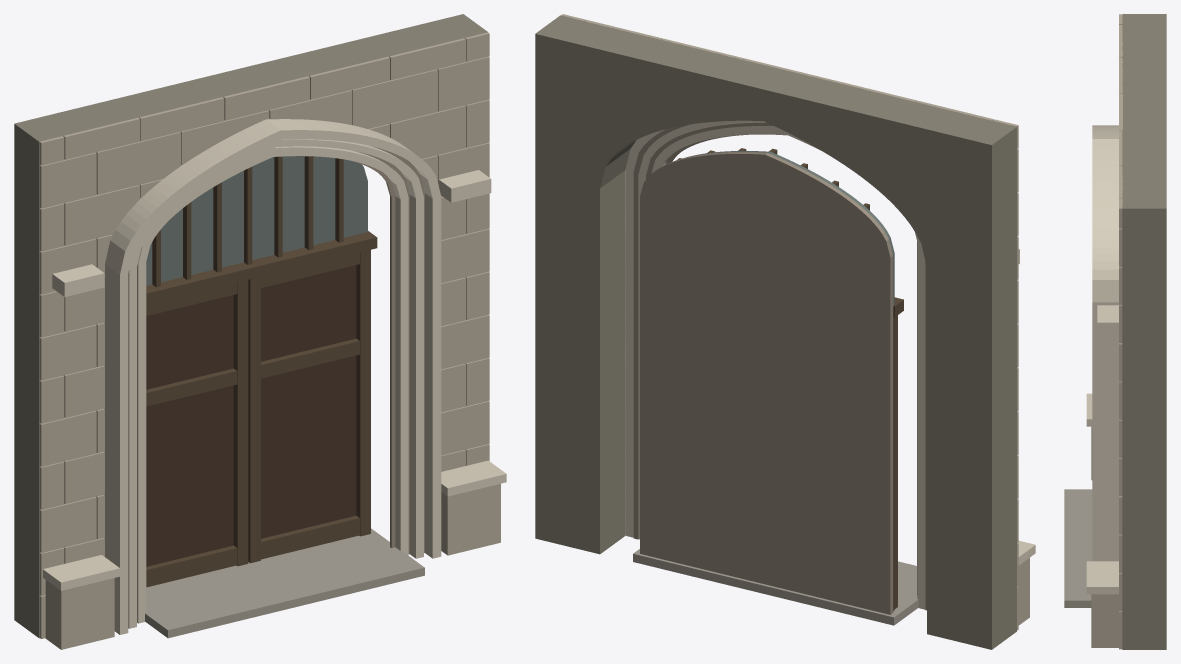
Rendered from yangpu-hujiang-haskell-gymnasium-arched-portal-web.glb.
The picture shows the model from 3 angles, left to right: view 1: azimuth 30°, elevation 25°; view 2: azimuth 150°, elevation 25°; view 3: azimuth 270°, elevation 25°; orthographic projection. The views are drawn at different scales.
Visible parts, largest first — view 1: 沪江大学北体育馆历史入口石券; view 2: 沪江大学北体育馆历史入口石券; view 3: 沪江大学北体育馆历史入口石券.
Part boxes in pixels (x1,y1,x2,y2): 沪江大学北体育馆历史入口石券: [14, 14, 506, 649]; 沪江大学北体育馆历史入口石券: [535, 14, 1035, 649]; 沪江大学北体育馆历史入口石券: [1064, 14, 1166, 649].
Bounding box in the file's own units: 3.2 × 3.38 × 0.71.
